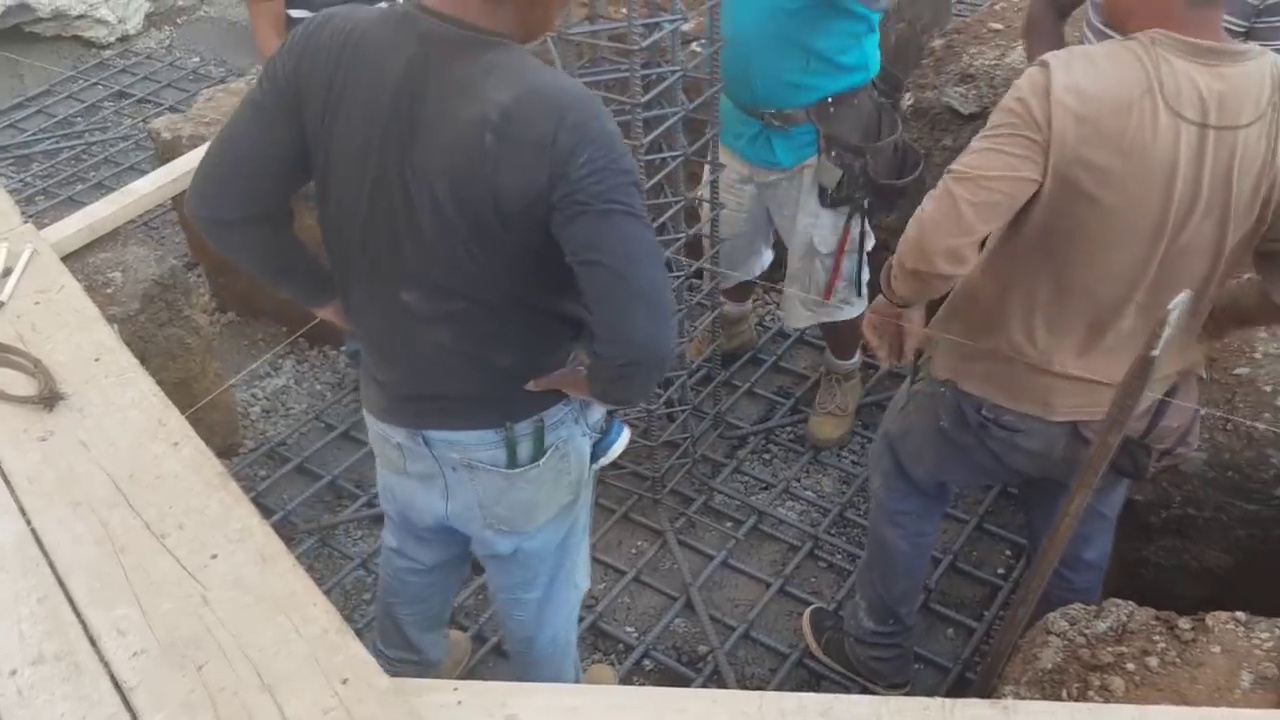person: (173, 0, 693, 673), (805, 0, 1280, 688), (684, 0, 912, 443)
